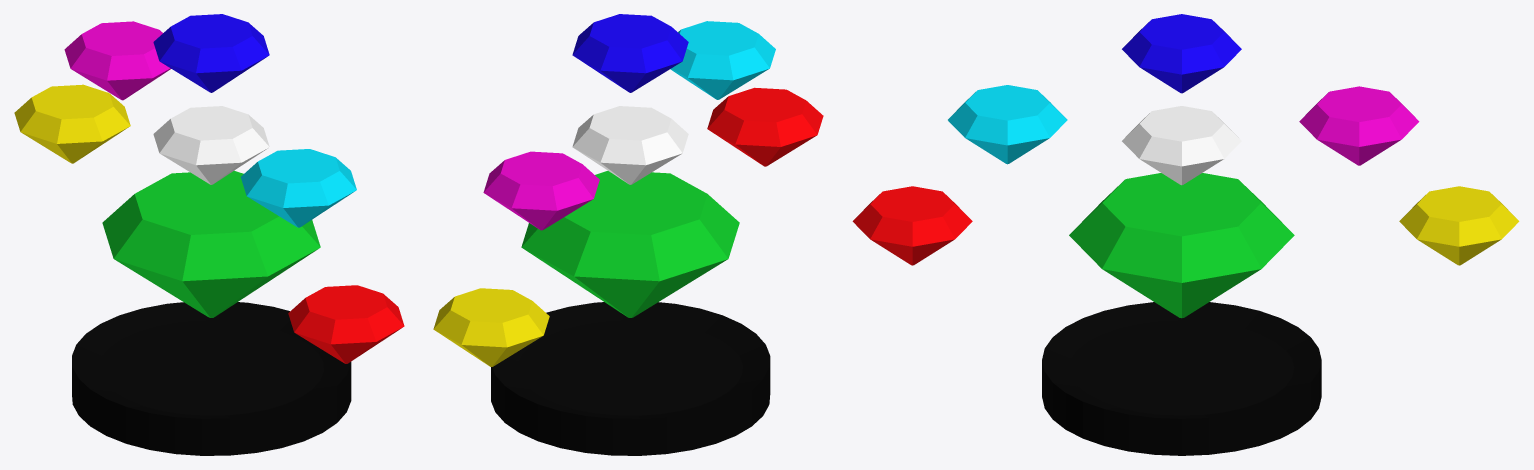
The model's file is Chaos Emerald.fbx.
3 views of the same model, side by side, from view 1: azimuth 30°, elevation 25°; view 2: azimuth 150°, elevation 25°; view 3: azimuth 270°, elevation 25° (orthographic).
Parts seen in each view (by area): view 1: Circle, Green, Red, White, Blue, Light Blue, Yellow, Purple; view 2: Circle, Green, Blue, Yellow, White, Purple, Red, Light Blue; view 3: Circle, Green, Light Blue, Blue, Purple, Red, Yellow, White.
Part boxes in pixels (box(x1,y1,x2,y2)): Circle: box(72, 302, 351, 455); Green: box(102, 170, 320, 317); Red: box(288, 285, 404, 363); White: box(153, 106, 269, 184); Blue: box(153, 14, 269, 92); Light Blue: box(240, 149, 356, 227); Yellow: box(14, 84, 130, 163); Purple: box(64, 21, 170, 100); Circle: box(491, 302, 770, 455); Green: box(521, 171, 739, 317); Blue: box(572, 14, 688, 92); Yellow: box(433, 288, 549, 366); White: box(572, 106, 688, 184); Purple: box(483, 151, 599, 230); Red: box(707, 87, 823, 166); Light Blue: box(670, 21, 775, 99); Circle: box(1042, 302, 1321, 455); Green: box(1069, 173, 1294, 318); Light Blue: box(948, 85, 1067, 164); Blue: box(1122, 14, 1241, 93); Purple: box(1299, 86, 1419, 165); Red: box(852, 186, 972, 265); Yellow: box(1399, 186, 1519, 265); White: box(1122, 106, 1241, 185).
Size of the model in its own units: 248 by 358 by 592.
